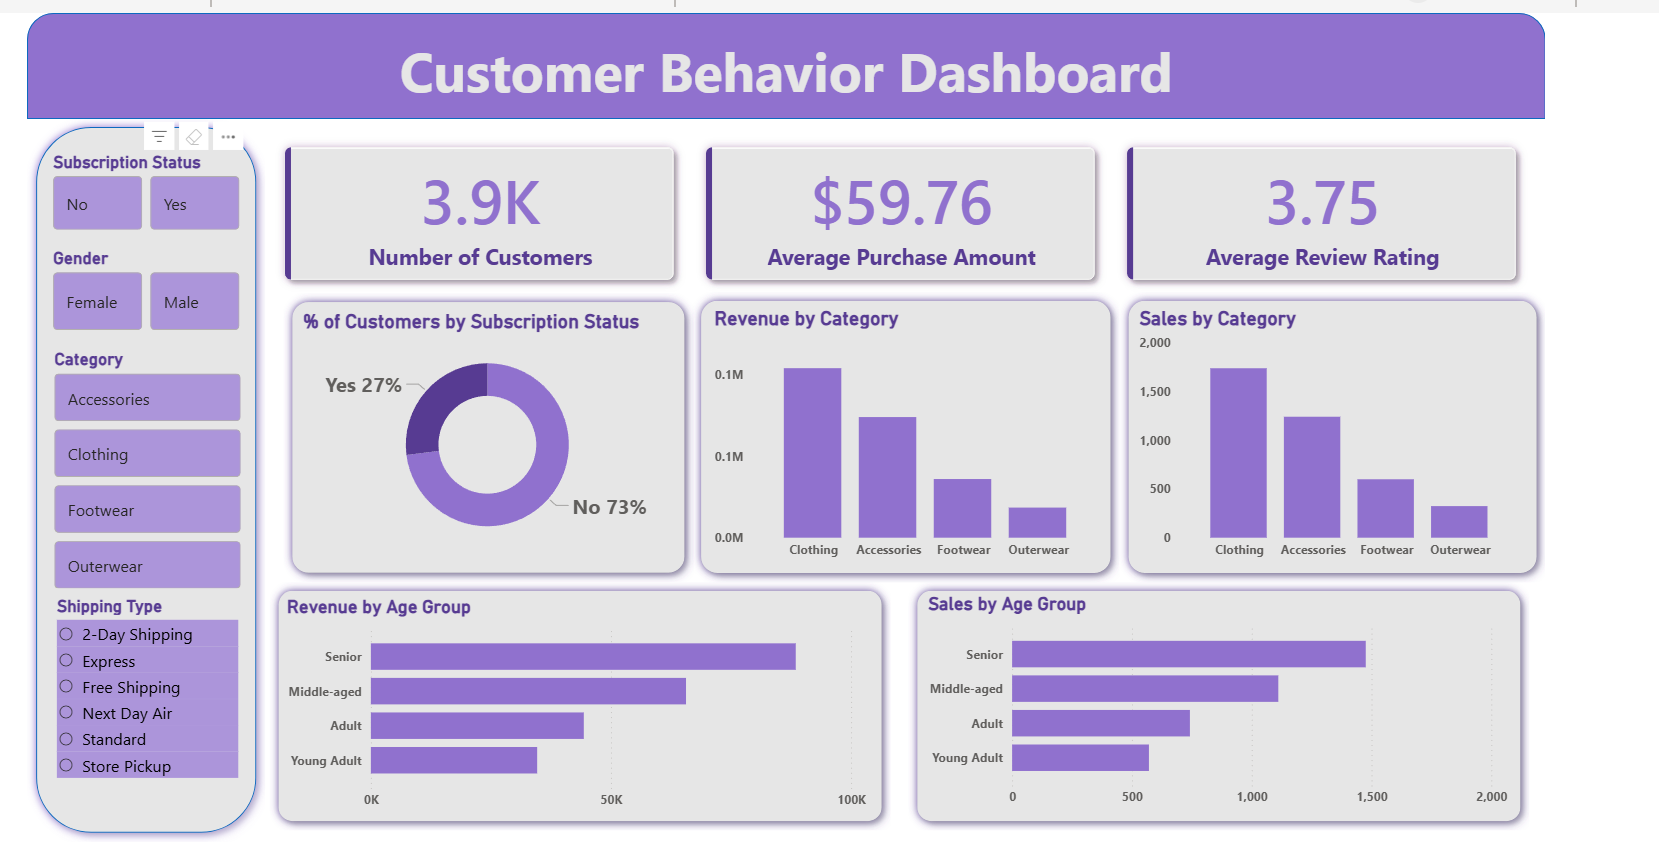

This screenshot's page, from the dashboard's own definition file:
{"tool":"powerbi","page":{"name":"Page 1","canvas":[1500,820],"ordinal":0},"visuals":[{"type":"cardVisual","fields":{"Data":["public customer.Number of Customers","public customer.Average Purchase Amount","public customer.Average Review Rating"]},"box":[225.5,104.2,1274.7,189.9],"z":0},{"type":"shape","box":[0,0,1500.3,104.7],"z":1000},{"type":"textbox","box":[0,15.6,1500.3,104.7],"z":2000},{"type":"group","id":"g1","title":"Group 1","box":[0,104.2,1500.3,715.2],"z":2500},{"type":"shape","box":[252.7,276.9,405.4,285.5],"z":2500,"group":"g1"},{"type":"shape","box":[657.6,275.5,422.5,286.9],"z":2750,"group":"g1"},{"type":"shape","box":[1079.2,275.5,421.1,286.9],"z":2875,"group":"g1"},{"type":"shape","box":[0,104.2,235.5,715.2],"z":2937,"group":"g1"},{"type":"shape","box":[239.8,562.1,613.8,245.5],"z":2968,"group":"g1"},{"type":"shape","box":[870.8,562.4,613.8,245.5],"z":2984,"group":"g1"},{"type":"donutChart","title":"% of Customers by Subscription Status","fields":{"Category":["public customer.Subscription Status"],"Y":["CountNonNull(public customer.Customer ID)"]},"box":[268.4,294,374,244.1],"z":3000,"group":"g2"},{"type":"clusteredColumnChart","title":"Revenue by Category","fields":{"Y":["Sum(public customer.Purchase Amount (USD))"],"Category":["public customer.Category"]},"box":[675.2,289.7,389.7,258.4],"z":4000,"group":"g2"},{"type":"clusteredColumnChart","title":"Sales by Category","fields":{"Y":["CountNonNull(public customer.Customer ID)"],"Category":["public customer.Category"]},"box":[1094.9,289.7,385.4,258.4],"z":5000,"group":"g2"},{"type":"advancedSlicerVisual","title":"Subscription Status","fields":{"Values":["public customer.Subscription Status"]},"box":[21.4,137,194.1,82.8],"z":6000,"group":"g2"},{"type":"advancedSlicerVisual","title":"Gender","fields":{"Values":["public customer.Gender"]},"box":[21.4,232.6,194.1,87.1],"z":7000,"group":"g2"},{"type":"advancedSlicerVisual","title":"Category","fields":{"Values":["public customer.Category"]},"box":[22.8,332.6,194.1,242.7],"z":8000,"group":"g2"},{"type":"listSlicer","fields":{"Values":["public customer.Shipping Type"]},"box":[25.6,575.2,189.9,242.7],"z":9000,"group":"g2"},{"type":"clusteredBarChart","title":"Revenue by Age Group","fields":{"Y":["Sum(public customer.Purchase Amount (USD))"],"Category":["public customer.Age Group"]},"box":[252.7,575.2,582.4,219.8],"z":10000,"group":"g2"},{"type":"clusteredBarChart","title":"Sales by Age Group","fields":{"Y":["CountNonNull(public customer.Customer ID)"],"Category":["public customer.Age Group"]},"box":[886.5,572.4,582.4,219.8],"z":12000,"group":"g2"},{"type":"group","id":"g2","title":"Group 2","box":[21.4,137,1458.9,680.9],"z":12001}]}

Visuals, with their boxes in screenshot pixels (x1, y1, x2, y2):
cardVisual - public customer.Number of Customers x public customer.Average Purchase Amount: [254, 114, 1546, 307]
shape: [26, 9, 1546, 115]
textbox: [26, 24, 1546, 131]
"Group 1" group: [26, 114, 1546, 839]
shape: [282, 289, 693, 578]
shape: [692, 288, 1120, 578]
shape: [1119, 288, 1546, 578]
shape: [26, 114, 265, 839]
shape: [269, 578, 891, 827]
shape: [908, 578, 1530, 827]
"% of Customers by Subscription Status" donutChart: [298, 307, 677, 554]
"Revenue by Category" clusteredColumnChart: [710, 302, 1105, 564]
"Sales by Category" clusteredColumnChart: [1135, 302, 1526, 564]
"Subscription Status" advancedSlicerVisual: [48, 147, 244, 231]
"Gender" advancedSlicerVisual: [48, 244, 244, 333]
"Category" advancedSlicerVisual: [49, 346, 246, 592]
listSlicer - public customer.Shipping Type: [52, 591, 244, 837]
"Revenue by Age Group" clusteredBarChart: [282, 591, 872, 814]
"Sales by Age Group" clusteredBarChart: [924, 589, 1514, 811]
"Group 2" group: [48, 147, 1526, 837]
